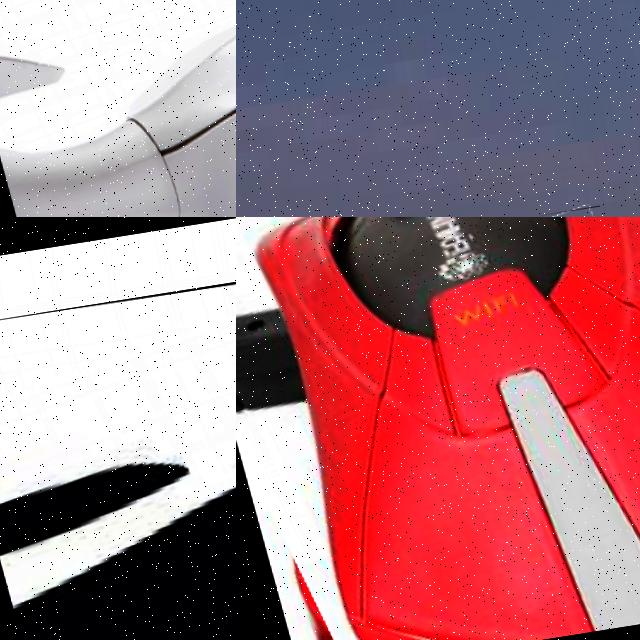drone: (236, 217, 640, 640), (0, 229, 236, 640), (0, 0, 236, 217)
